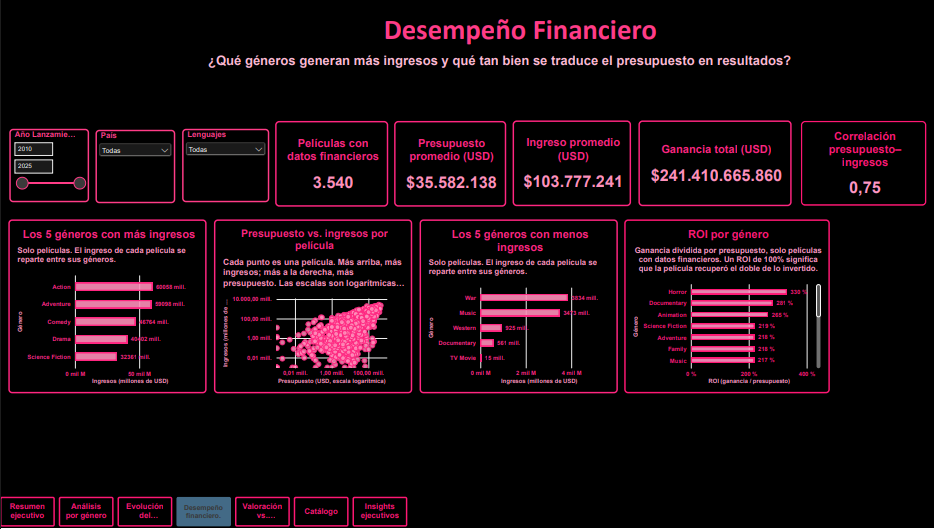

What the dashboard file says about the page in this screenshot:
{"tool":"powerbi","page":{"name":"Desempeño financiero.","canvas":[1920,1080],"ordinal":4},"visuals":[{"type":"textbox","box":[457.8,27.1,1196,85],"z":0},{"type":"textbox","box":[425.3,112.2,1272.5,46.7],"z":1000},{"type":"slicer","fields":{"Values":["catalogo.content_type"]},"box":[24.6,309.5,162.7,99.2],"z":2000},{"type":"slicer","fields":{"Values":["catalogo.release_year"]},"box":[200.1,267.8,163,150],"z":3000},{"type":"slicer","fields":{"Values":["catalogo.pais_principal"]},"box":[375.7,269.6,163,150],"z":4000},{"type":"slicer","fields":{"Values":["catalogo.language"]},"box":[553,267.8,178,150],"z":5000},{"type":"cardVisual","fields":{"Data":["catalogo.Películas con datos financieros (texto)"]},"box":[743,251.5,269.6,175.5],"z":6000},{"type":"cardVisual","fields":{"Data":["catalogo.Presupuesto promedio (texto)"]},"box":[1032.6,249.7,260.6,175.5],"z":7000},{"type":"cardVisual","fields":{"Data":["catalogo.Ingreso promedio (texto)"]},"box":[1305.9,251.5,271.4,175.5],"z":8000},{"type":"cardVisual","fields":{"Data":["catalogo.Ganancia total (texto)"]},"box":[1593.6,249.7,313.1,175.5],"z":9000},{"type":"textbox","box":[969.3,427.1,749.2,48.9],"z":10000},{"type":"scatterChart","title":"Presupuesto vs. ingresos por película","fields":{"Category":["catalogo.title"],"X":["catalogo.Presupuesto (película)"],"Y":["catalogo.Ingresos (película)"]},"box":[14.5,565.3,765.5,437.9],"z":11000},{"type":"clusteredBarChart","title":"Los 5 géneros con más ingresos","fields":{"Category":["catalogo.genero"],"Y":["catalogo.Ingresos por género"]},"box":[790.8,565.3,542.9,437.9],"z":11001},{"type":"clusteredBarChart","title":"Los 5 géneros con menos ingresos","fields":{"Category":["catalogo.genero"],"Y":["catalogo.Ingresos por género"]},"box":[1339.1,565.3,564.6,437.9],"z":11002},{"type":"actionButton","box":[1801.9,1.9,100,40],"z":11003},{"type":"actionButton","box":[0,0,100,40],"z":11004}]}

Visuals, with their boxes on the page's 1920x1080 design canvas (x1, y1, x2, y2). These are canvas units, not pixel positions in the 934x529 screenshot, which may show the page scaled, cropped or inside an application window:
textbox: <bbox>458, 27, 1654, 112</bbox>
textbox: <bbox>425, 112, 1698, 159</bbox>
slicer - catalogo.content_type: <bbox>25, 310, 187, 409</bbox>
slicer - catalogo.release_year: <bbox>200, 268, 363, 418</bbox>
slicer - catalogo.pais_principal: <bbox>376, 270, 539, 420</bbox>
slicer - catalogo.language: <bbox>553, 268, 731, 418</bbox>
cardVisual - catalogo.Películas con datos financieros (texto): <bbox>743, 252, 1013, 427</bbox>
cardVisual - catalogo.Presupuesto promedio (texto): <bbox>1033, 250, 1293, 425</bbox>
cardVisual - catalogo.Ingreso promedio (texto): <bbox>1306, 252, 1577, 427</bbox>
cardVisual - catalogo.Ganancia total (texto): <bbox>1594, 250, 1907, 425</bbox>
textbox: <bbox>969, 427, 1718, 476</bbox>
"Presupuesto vs. ingresos por película" scatterChart: <bbox>14, 565, 780, 1003</bbox>
"Los 5 géneros con más ingresos" clusteredBarChart: <bbox>791, 565, 1334, 1003</bbox>
"Los 5 géneros con menos ingresos" clusteredBarChart: <bbox>1339, 565, 1904, 1003</bbox>
actionButton: <bbox>1802, 2, 1902, 42</bbox>
actionButton: <bbox>0, 0, 100, 40</bbox>
